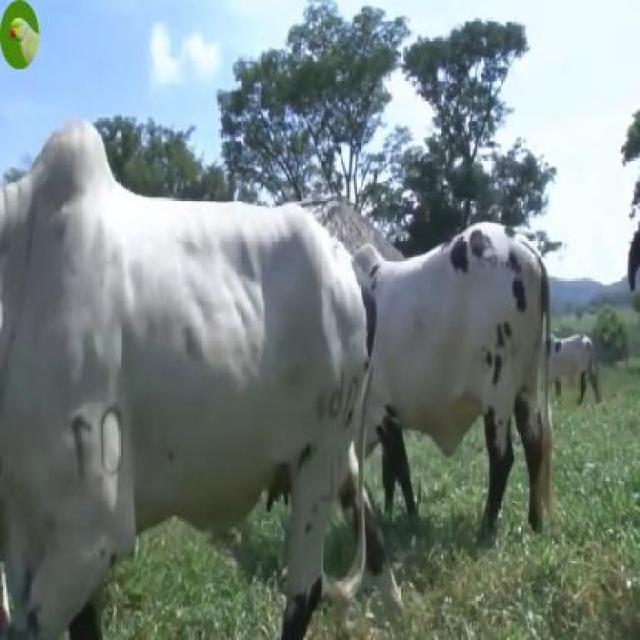Cow: (0, 119, 368, 638)
